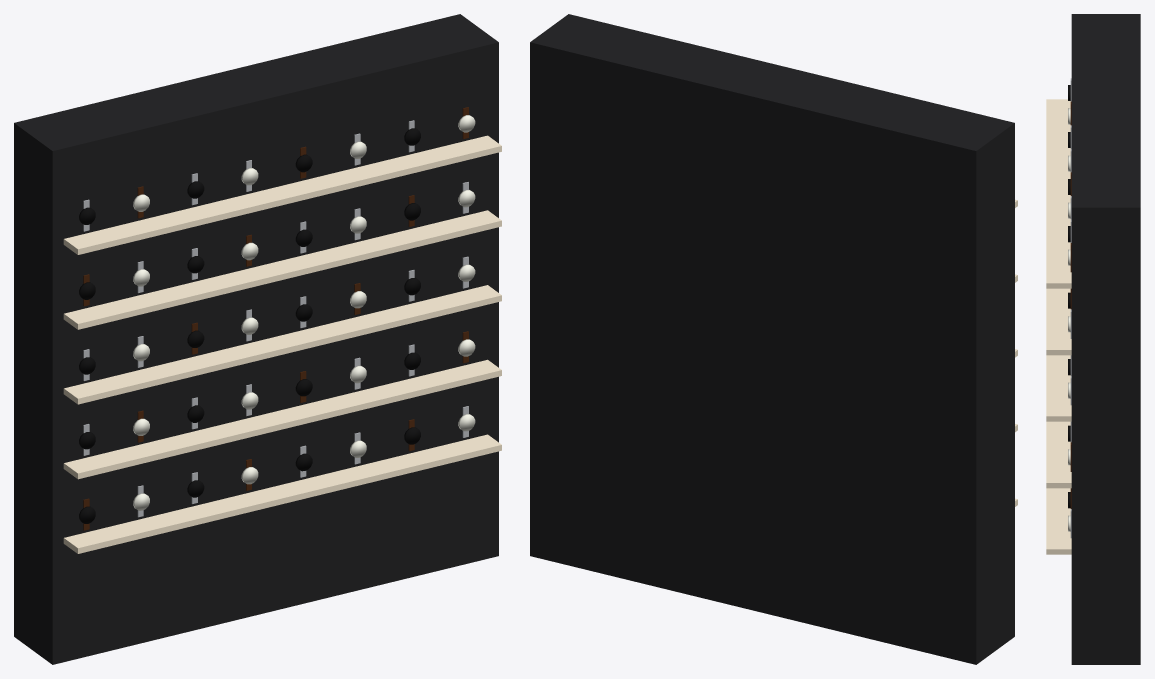
Rendered from watch_wall.glb.
3 views of the same model, side by side, from view 1: azimuth 30°, elevation 25°; view 2: azimuth 150°, elevation 25°; view 3: azimuth 270°, elevation 25° (orthographic). The views are drawn at different scales.
Parts seen in each view (by area): view 1: watch_wall; view 2: watch_wall; view 3: watch_wall.
Part boxes in pixels (left/top/right/bottom): watch_wall: left=14, top=14, right=501, bottom=664; watch_wall: left=530, top=14, right=1017, bottom=664; watch_wall: left=1046, top=14, right=1140, bottom=664.
Size of the model in its own units: 2 by 2.2 by 0.41.
Materials: 1 (1 with a texture image).
